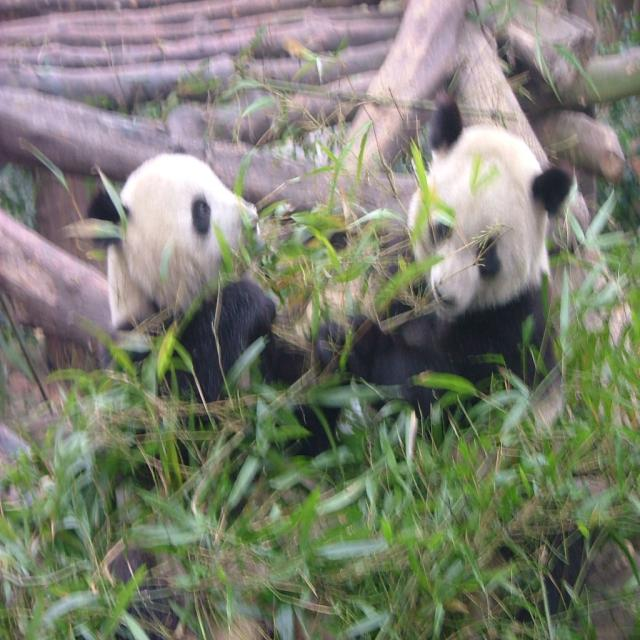panda: (82, 142, 342, 639), (333, 92, 574, 625)
